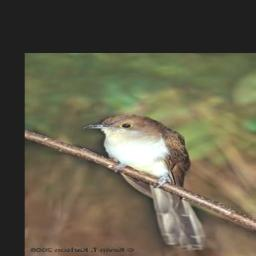Cuckoo: (86, 113, 208, 250)
